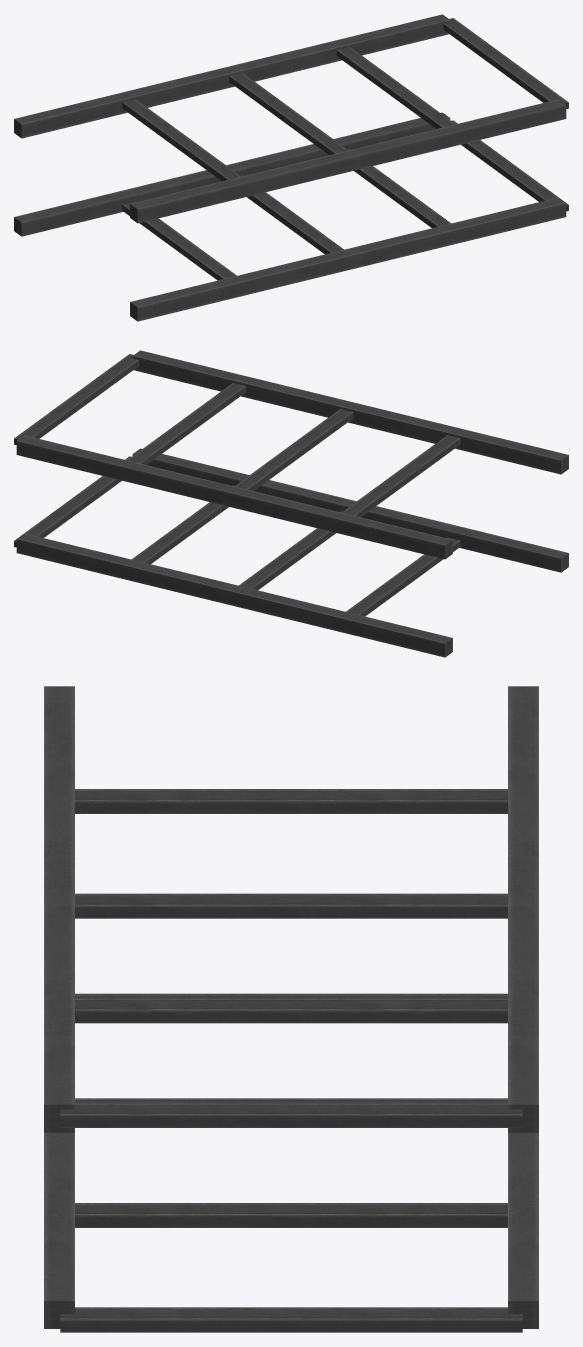
File: p6_wire_trellis_64_lod0.glb
3 renders of one model, top to bottom at view 1: azimuth 30°, elevation 25°; view 2: azimuth 150°, elevation 25°; view 3: azimuth 270°, elevation 25°, orthographic. The views are drawn at different scales.
Parts seen in each view (by area): view 1: surf0; view 2: surf0; view 3: surf0.
Boxes of the visible parts, x1,y1,x2,y2 form: surf0: [14, 14, 568, 321]; surf0: [14, 350, 568, 657]; surf0: [44, 686, 538, 1332].
Bounding box in the file's own units: 65 × 16 × 32.
